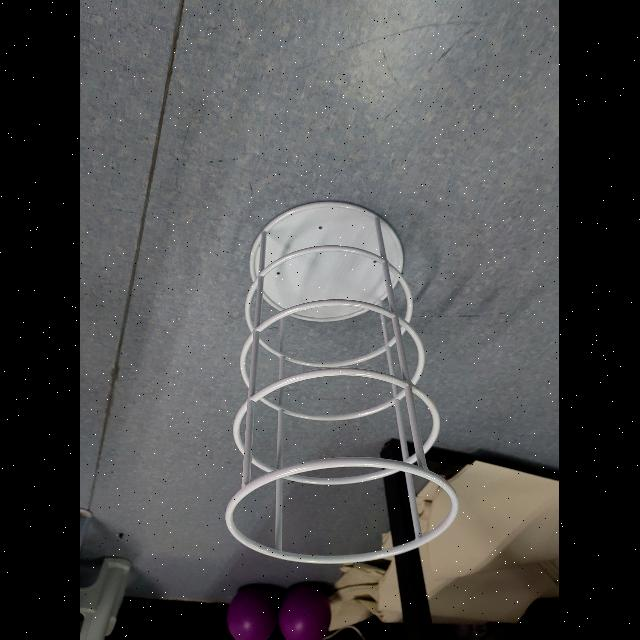S: (222, 196, 462, 570)
